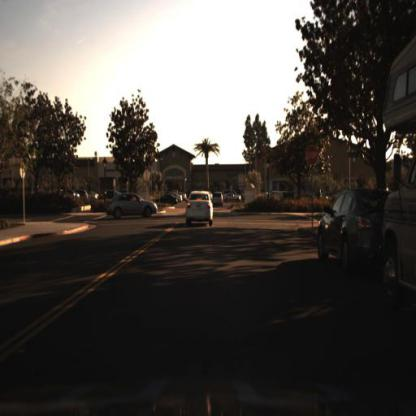car: (313, 184, 394, 269), (105, 191, 159, 222), (185, 187, 219, 230), (211, 191, 227, 212), (220, 192, 243, 204)
truck: (383, 40, 416, 326)
